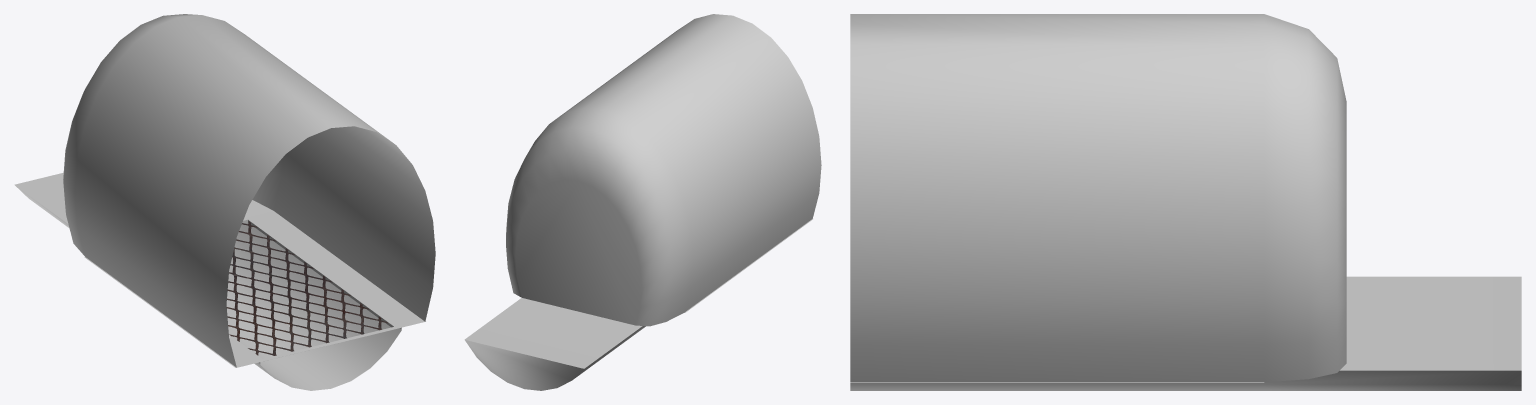
The model's file is Module_End.fbx.
The picture shows the model from 3 angles, left to right: view 1: azimuth 30°, elevation 25°; view 2: azimuth 150°, elevation 25°; view 3: azimuth 270°, elevation 25°; orthographic projection. The views are drawn at different scales.
Visible parts, largest first — view 1: Module_End; view 2: Module_End; view 3: Module_End.
Boxes of the visible parts, <box> form: Module_End: <box>14,14,435,390</box>; Module_End: <box>464,14,821,390</box>; Module_End: <box>850,14,1521,390</box>.
Bounding box in the file's own units: 902 × 1074 × 1838.
